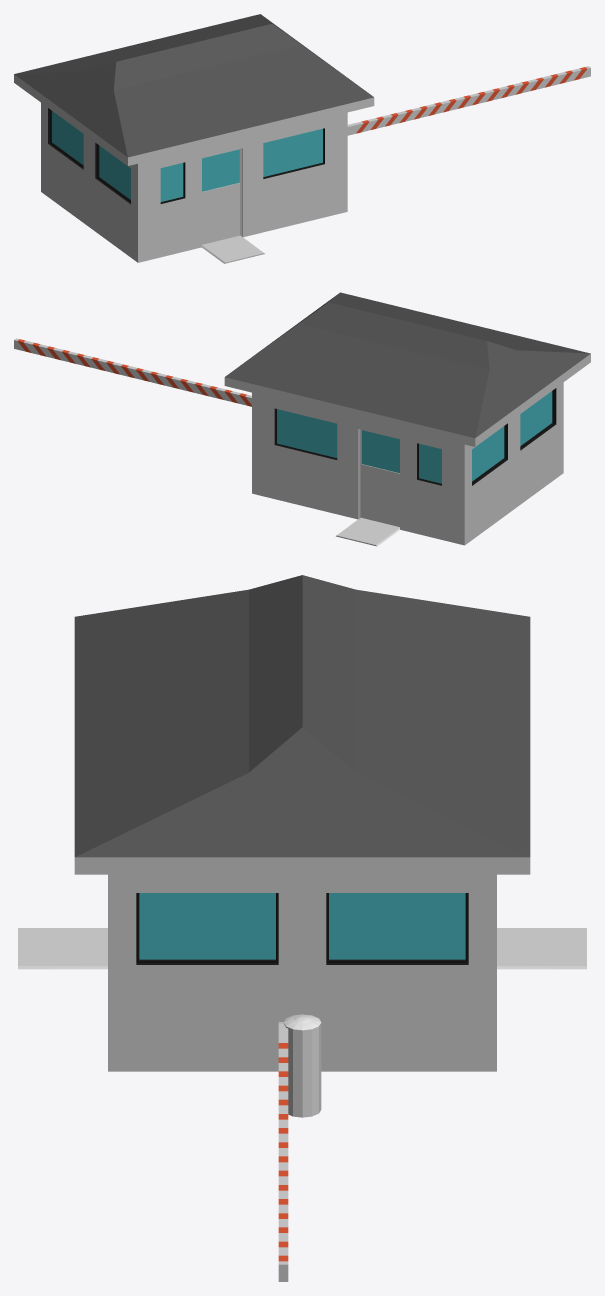
File: SecurityRoom.fbx
3 renders of one model, top to bottom at view 1: azimuth 30°, elevation 25°; view 2: azimuth 150°, elevation 25°; view 3: azimuth 270°, elevation 25°, orthographic. The views are drawn at different scales.
Parts seen in each view (by area): view 1: Cube, Cylinder.001; view 2: Cube, Cylinder.001; view 3: Cube, Cylinder, Cylinder.001.
Boxes of the visible parts, bbox=[...] form: Cube: bbox=[14, 14, 374, 263]; Cylinder.001: bbox=[347, 66, 590, 135]; Cube: bbox=[224, 292, 590, 546]; Cylinder.001: bbox=[14, 338, 251, 406]; Cube: bbox=[18, 575, 586, 1071]; Cylinder: bbox=[283, 1014, 321, 1117]; Cylinder.001: bbox=[278, 1022, 288, 1281].
Size of the model in its own units: 2503 by 740 by 1200.
